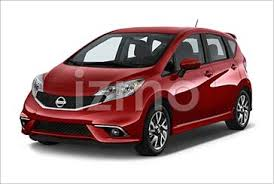Nissan: (24, 31, 242, 143)
